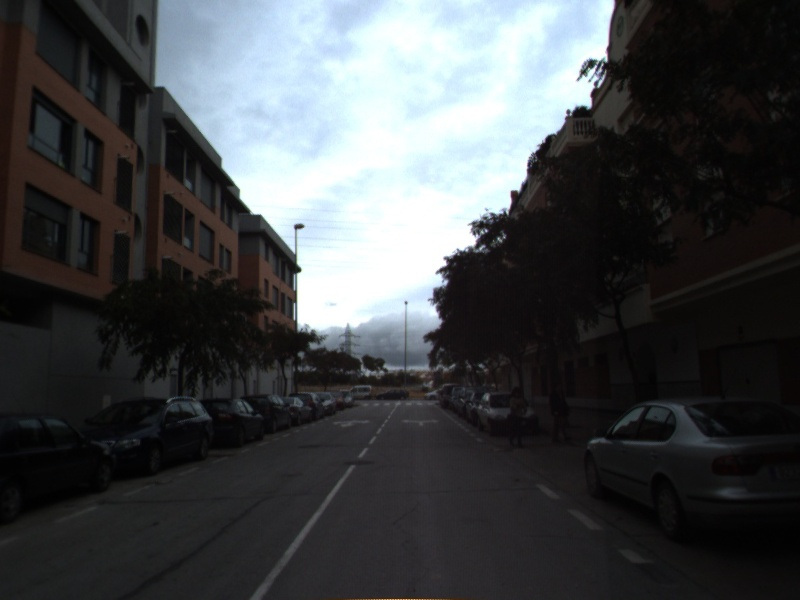LEFT_RIGHT: (400, 416, 442, 428)
